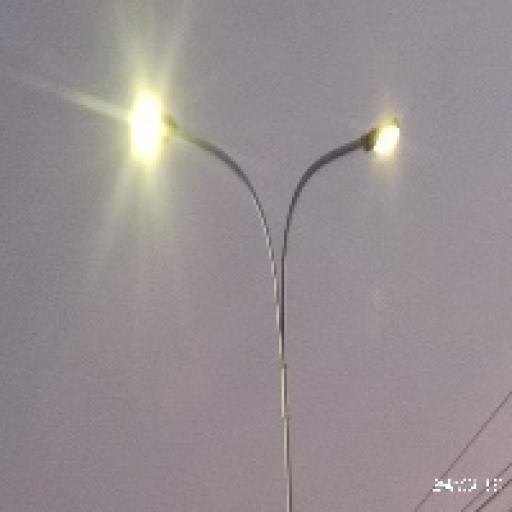Working: (110, 83, 194, 172), (350, 114, 406, 164)
